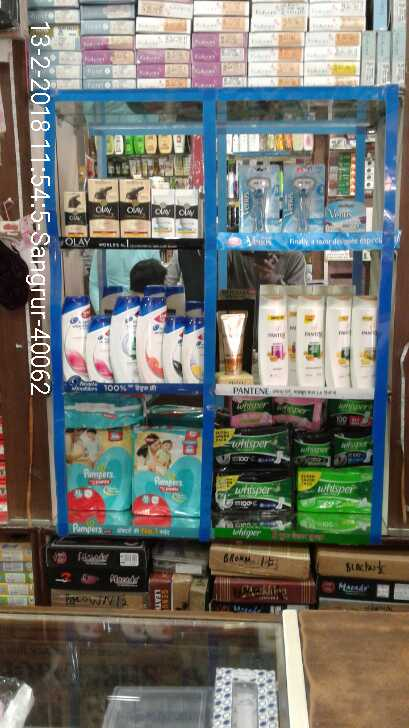venus: (238, 164, 282, 231), (282, 164, 325, 230), (325, 202, 365, 230)
